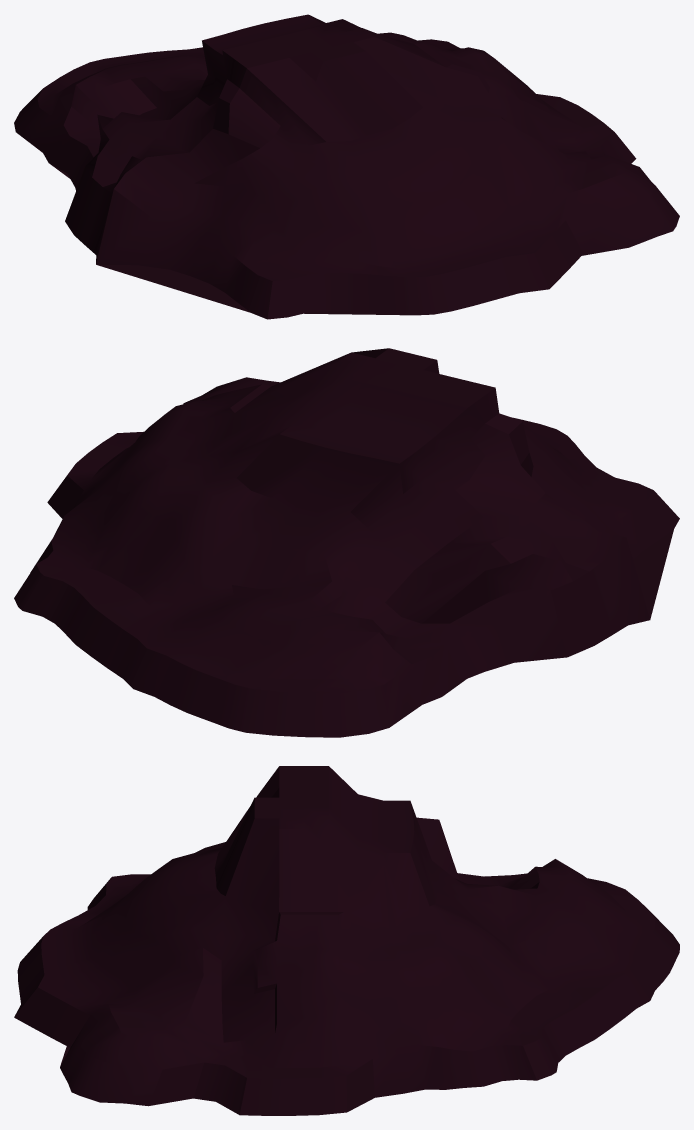
File: volcanomount1.fbx
3 views of the same model, one above another, from view 1: azimuth 30°, elevation 25°; view 2: azimuth 150°, elevation 25°; view 3: azimuth 270°, elevation 25° (orthographic). The views are drawn at different scales.
Visible parts, largest first — view 1: Plane.006; view 2: Plane.006; view 3: Plane.006.
Boxes of the visible parts, <box> form: Plane.006: <box>14,14,679,319</box>; Plane.006: <box>14,348,679,737</box>; Plane.006: <box>14,766,679,1115</box>.
Bounding box in the file's own units: 2901 × 895 × 3225.
